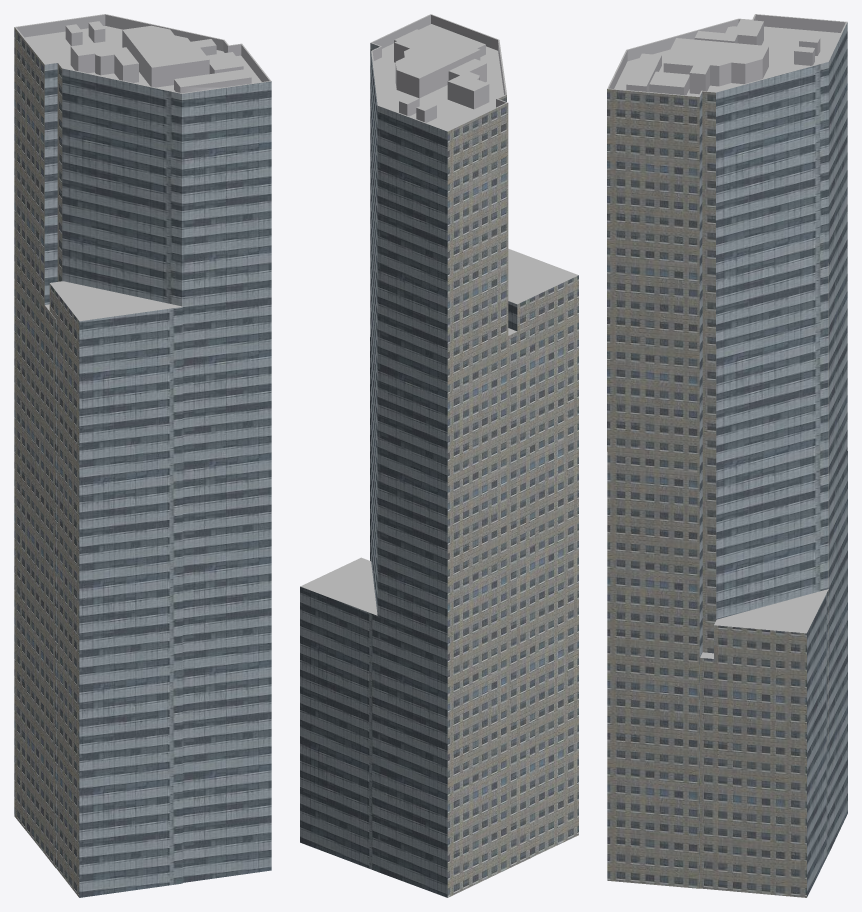
3 views of the same model, side by side, from view 1: azimuth 30°, elevation 25°; view 2: azimuth 150°, elevation 25°; view 3: azimuth 270°, elevation 25° (orthographic). The views are drawn at different scales.
Visible parts, largest first — view 1: geometry_0; view 2: geometry_0; view 3: geometry_0.
Part boxes in pixels (box(x1,y1,x2,y2)): geometry_0: box(14, 14, 271, 897); geometry_0: box(300, 14, 578, 897); geometry_0: box(607, 14, 847, 897).
Bounding box in the file's own units: 48.69 × 179 × 48.77.
Materials: 1 (1 with a texture image).
